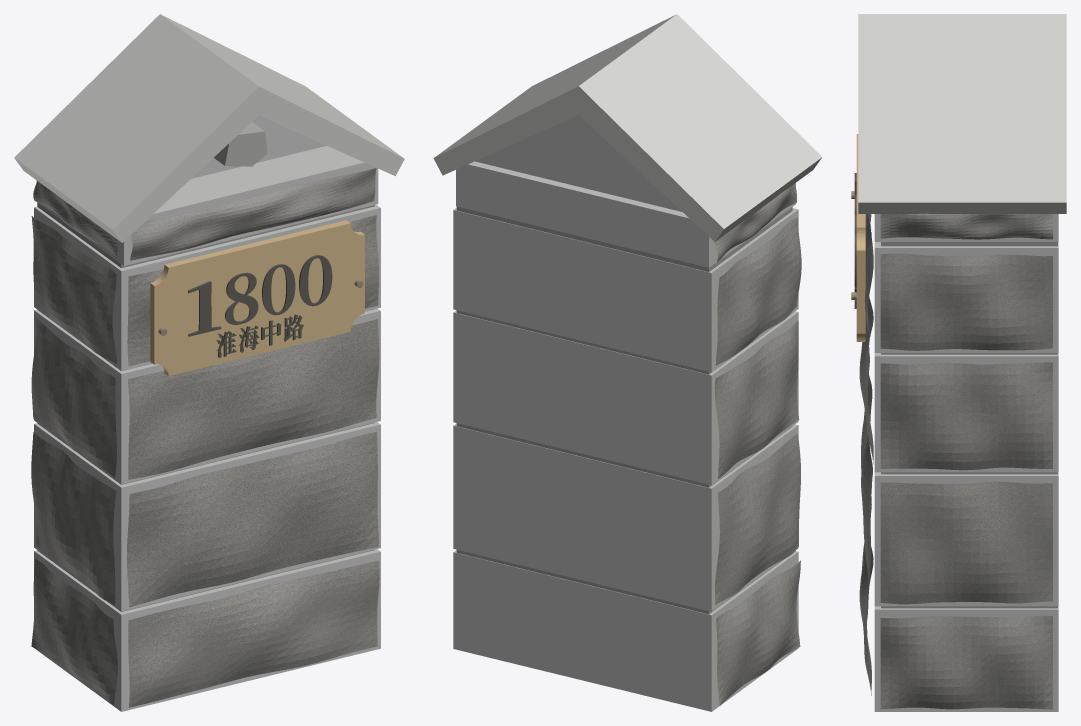
Rendered from huaihai-1800-rusticated-gatepost-near.glb.
3 renders of one model, left to right at view 1: azimuth 30°, elevation 25°; view 2: azimuth 150°, elevation 25°; view 3: azimuth 270°, elevation 25°, orthographic. The views are drawn at different scales.
Visible parts, largest first — view 1: 淮海中路1800号花岗石门柱与三角压顶; view 2: 淮海中路1800号花岗石门柱与三角压顶; view 3: 淮海中路1800号花岗石门柱与三角压顶.
Part boxes in pixels (left/top/right/bottom): 淮海中路1800号花岗石门柱与三角压顶: left=14, top=14, right=404, bottom=711; 淮海中路1800号花岗石门柱与三角压顶: left=433, top=14, right=822, bottom=711; 淮海中路1800号花岗石门柱与三角压顶: left=851, top=14, right=1066, bottom=711.
Size of the model in its own units: 0.884 by 1.74 by 0.536.
8 materials, 1 textured.
